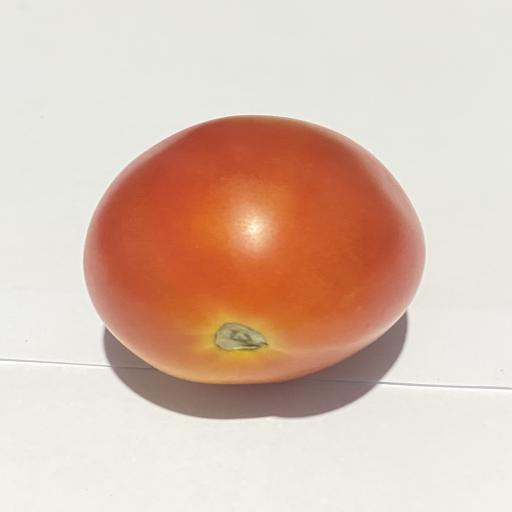ripe: (84, 115, 425, 384)
